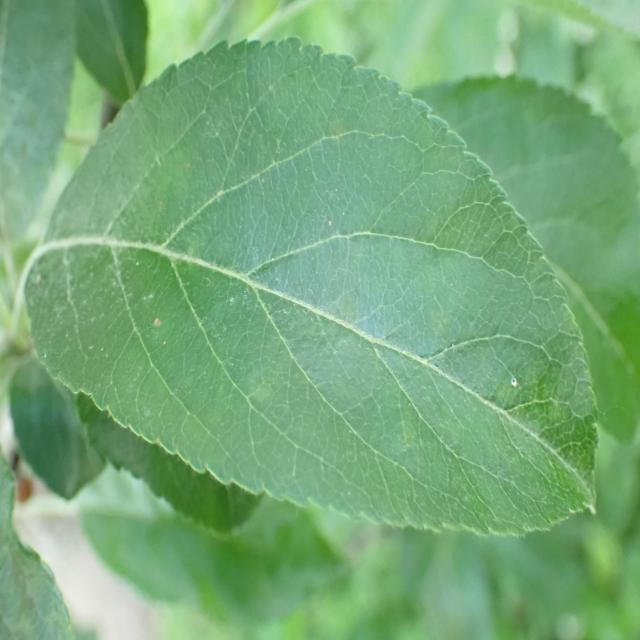scab: (57, 169, 576, 503)
